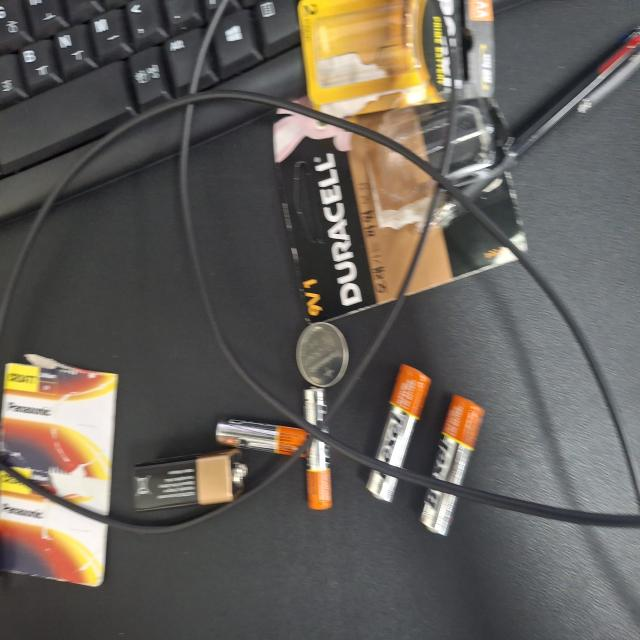9V: (335, 524, 384, 640)
AA: (295, 207, 403, 293), (271, 280, 380, 363)
AAA: (289, 409, 381, 449), (314, 443, 342, 563)
COIN: (240, 388, 291, 457)
